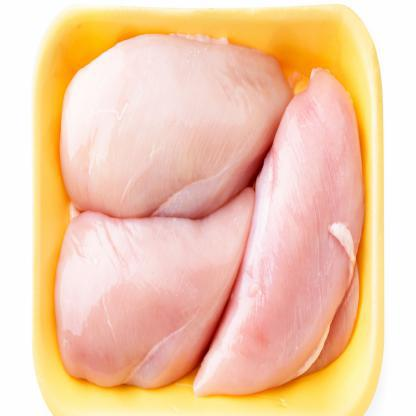chicken: (198, 81, 362, 408), (49, 24, 286, 219), (52, 200, 248, 388)
